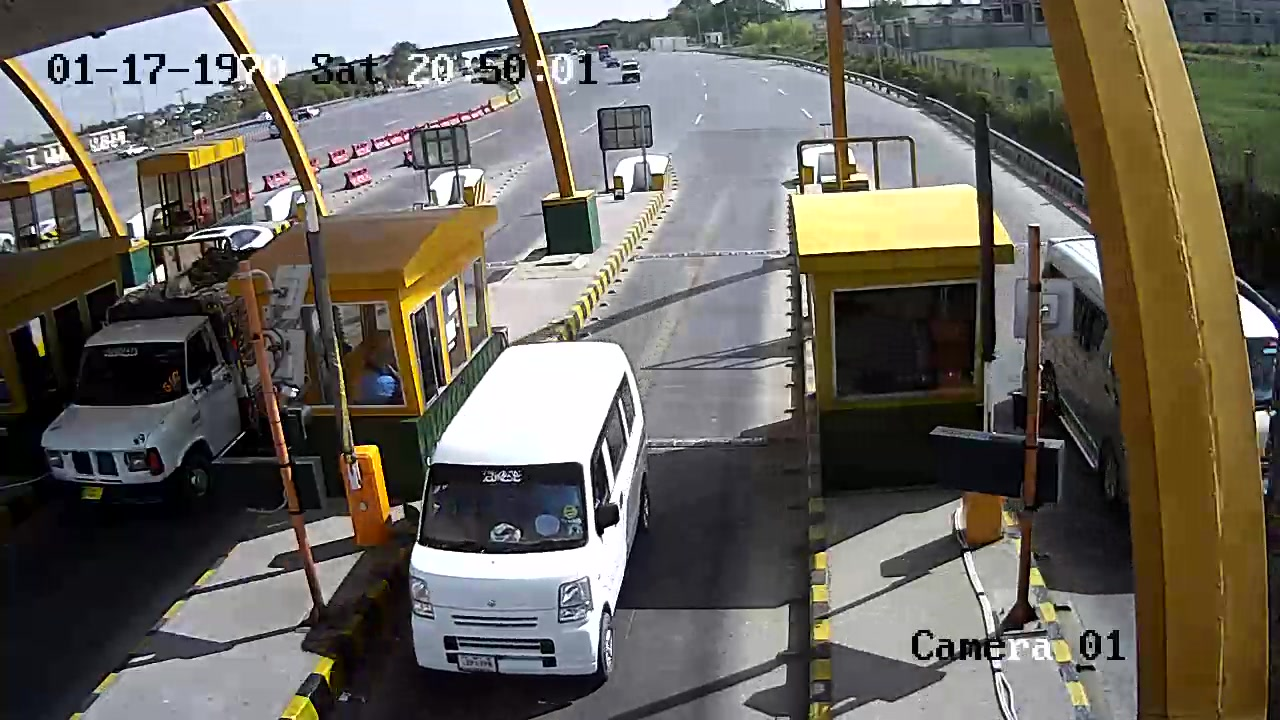F1: (404, 340, 661, 679)
